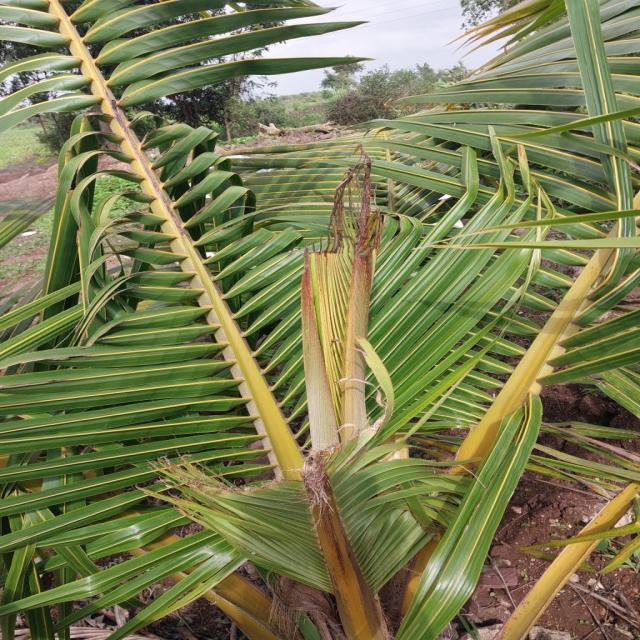bud rot: (302, 155, 382, 451)
